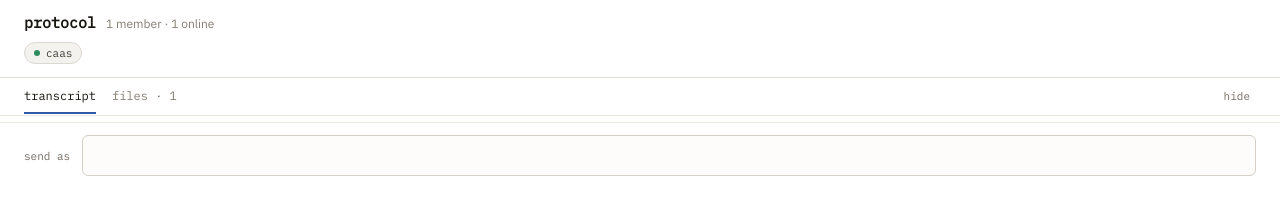
Scenario: the table renders key, size, uploader and content type
Click the button "files · 1" at x=144, y=102, box [112, 88, 177, 115]
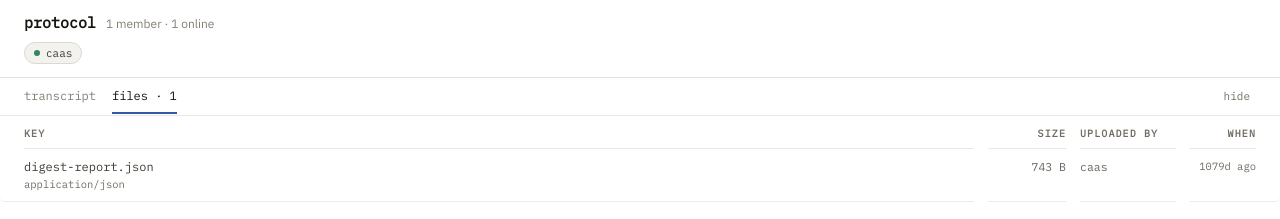
Expected: the text "digest-report.json" is shown, [24, 159, 154, 174]
Expected: the text "application/json" is shown, [24, 177, 125, 191]
Expected: the text "caas" is shown, [1080, 149, 1176, 202]
